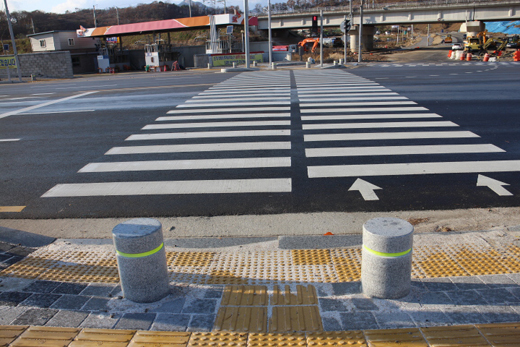traffic_light: (312, 15, 317, 27)
